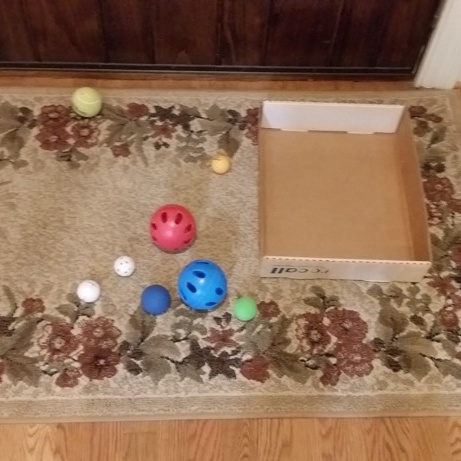blueball: (172, 257, 233, 312)
redball: (146, 201, 201, 257)
